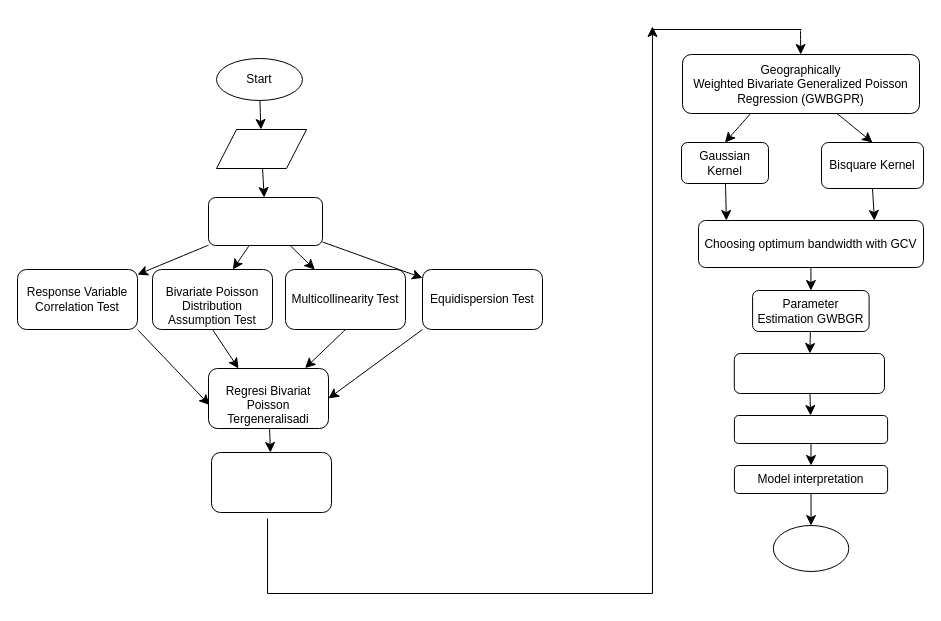
Some shapes in this 941 by 621 pixel diagram are drawn without their labels. The centre of each missing label's shape, as x and y in pixels:
Best model selection: the point at 810,429
Data Input: the point at 261,148
Descriptive data: the point at 265,221
Finished: the point at 810,548
Simultaneous and partial parameter testing: the point at 808,373
Spatial Heterogeneity Testing: the point at 271,482
